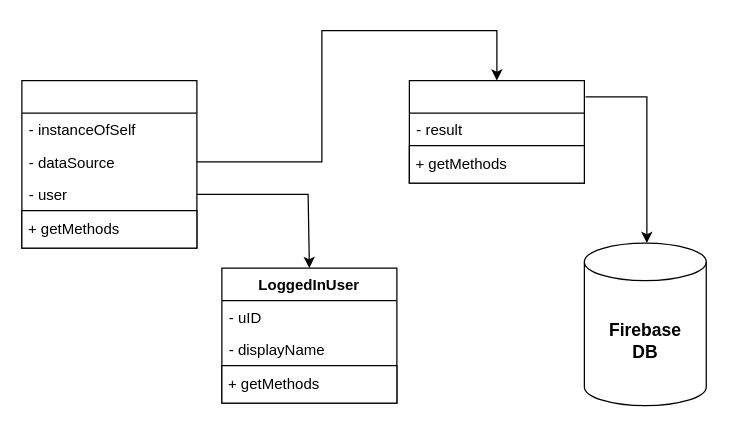
The diagram is 729 pixels wide and 428 high, and some of its shapes have lost their labels. Here are the shapes that lost their labels. From the top down, the box of each, then its label:
(408, 79, 584, 183): LoginDataSource
(21, 79, 197, 248): LoginRepository
